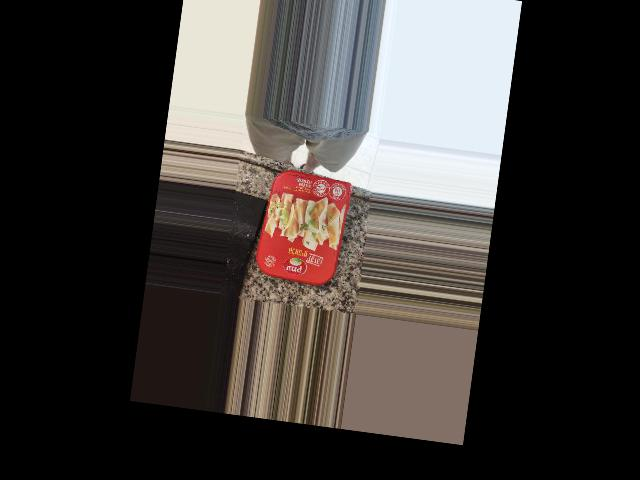cheese: (244, 143, 345, 264)
